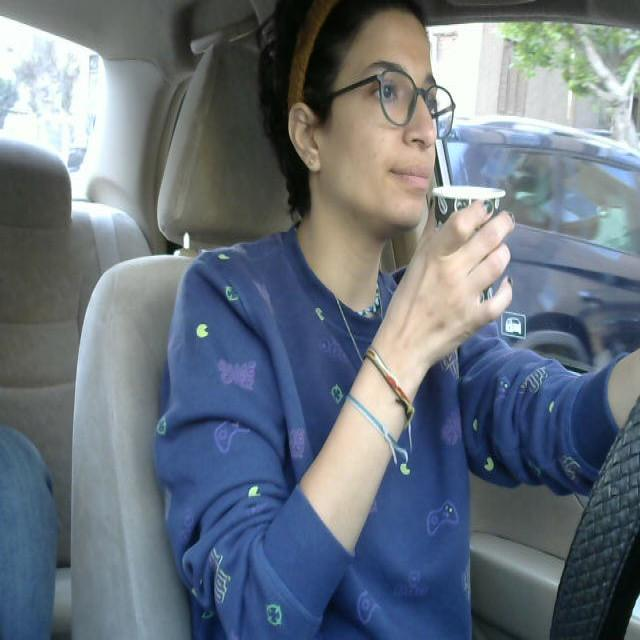drinking: (418, 177, 511, 330)
